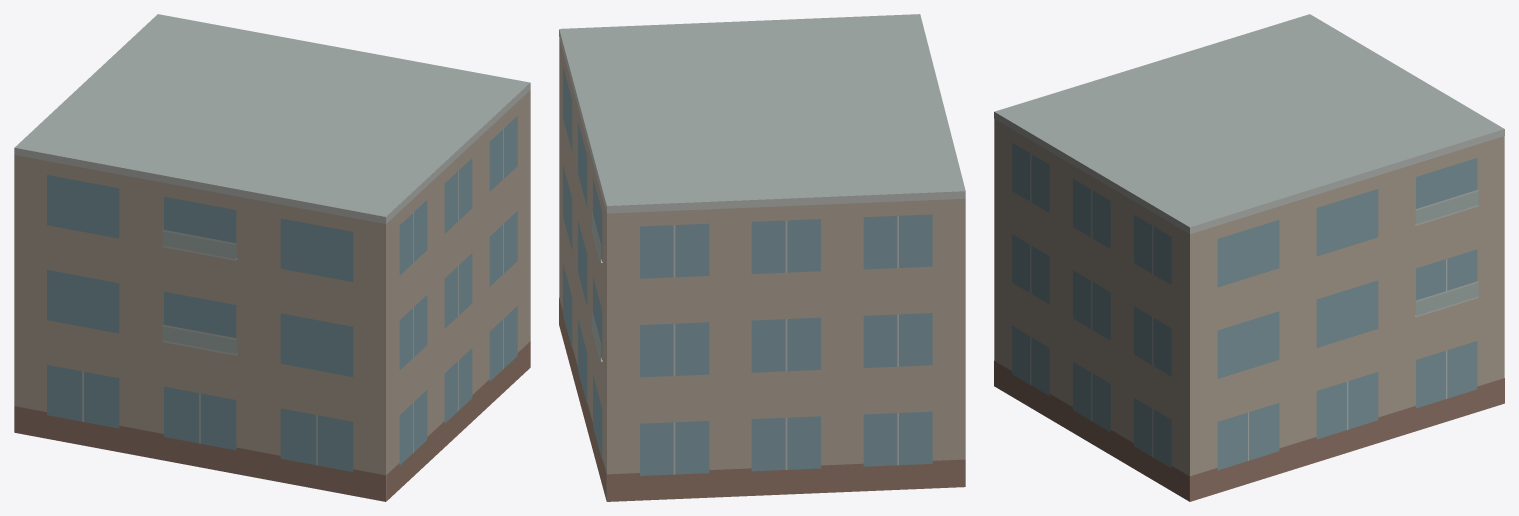
The model's file is survey-upis-32723299.glb.
3 renders of one model, left to right at view 1: azimuth 30°, elevation 25°; view 2: azimuth 150°, elevation 25°; view 3: azimuth 270°, elevation 25°, orthographic. The views are drawn at different scales.
Visible parts, largest first — view 1: survey-upis-32723299.tmp; view 2: survey-upis-32723299.tmp; view 3: survey-upis-32723299.tmp.
Part boxes in pixels (bbox=[...]): survey-upis-32723299.tmp: bbox=[14, 14, 530, 501]; survey-upis-32723299.tmp: bbox=[559, 14, 965, 501]; survey-upis-32723299.tmp: bbox=[994, 14, 1504, 501].
Bounding box in the file's own units: 16.1 × 9.65 × 16.28.
